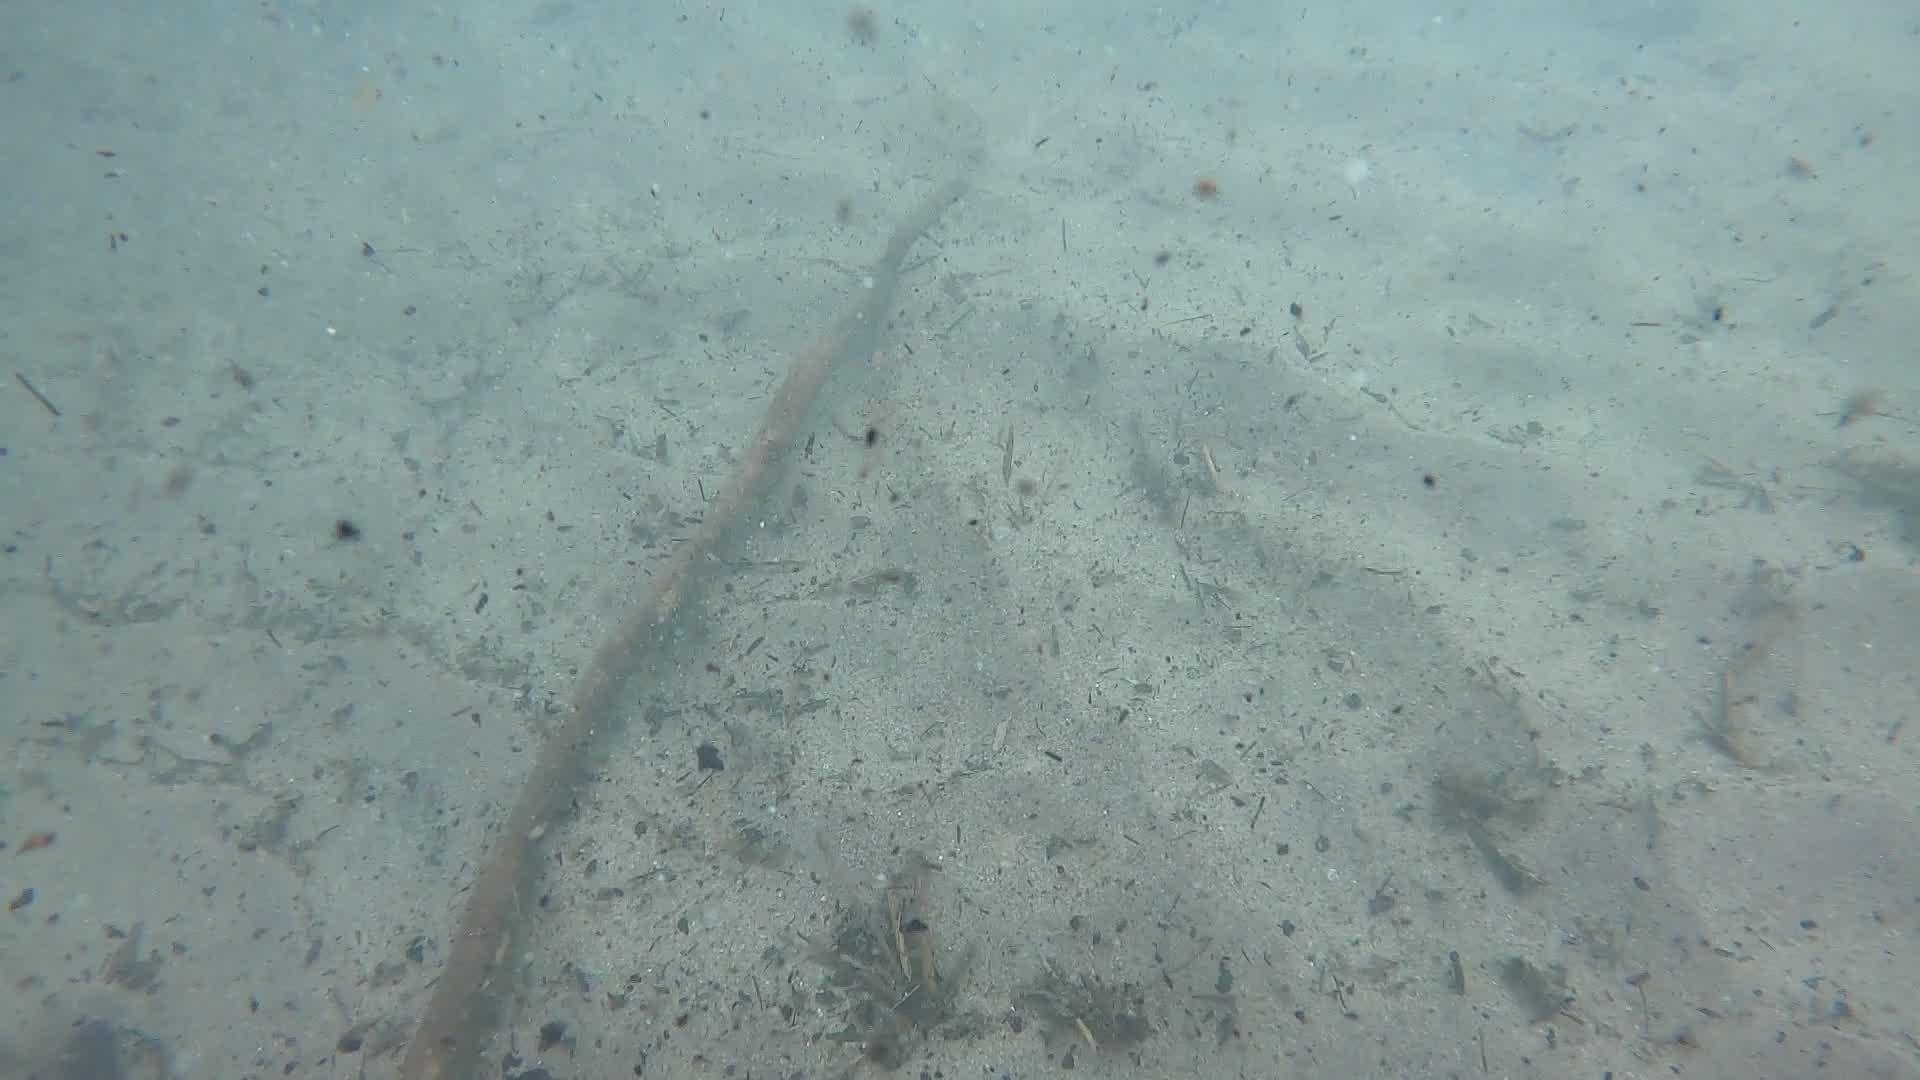wood: (392, 164, 968, 1077)
